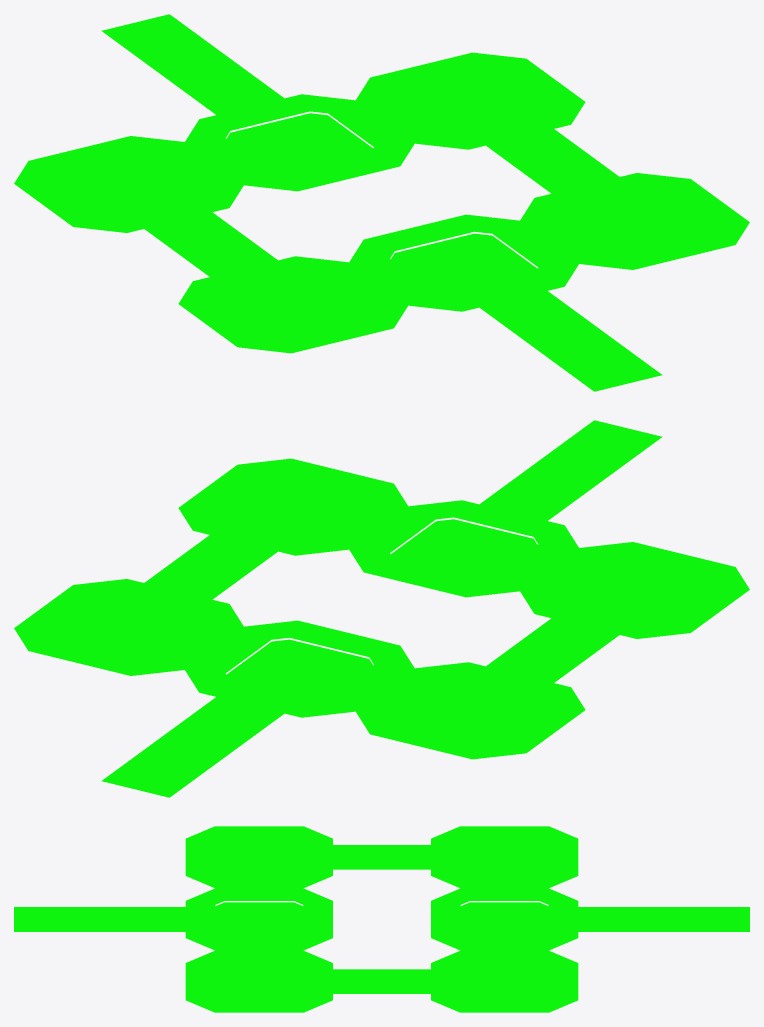
File: s06b_ic1-floor.glb
The picture shows the model from 3 angles, top to bottom: view 1: azimuth 30°, elevation 25°; view 2: azimuth 150°, elevation 25°; view 3: azimuth 270°, elevation 25°; orthographic projection. The views are drawn at different scales.
Parts seen in each view (by area): view 1: collision_floor-colonly; view 2: collision_floor-colonly; view 3: collision_floor-colonly.
Boxes of the visible parts, x1,y1,x2,y2 form: collision_floor-colonly: [14, 14, 749, 391]; collision_floor-colonly: [14, 420, 749, 797]; collision_floor-colonly: [14, 826, 749, 1012].
Size of the model in its own units: 45 by 0.1504 by 75.
